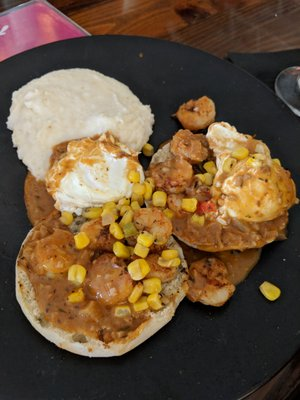salad: (273, 65, 300, 121)
sushi: (3, 25, 300, 385)
